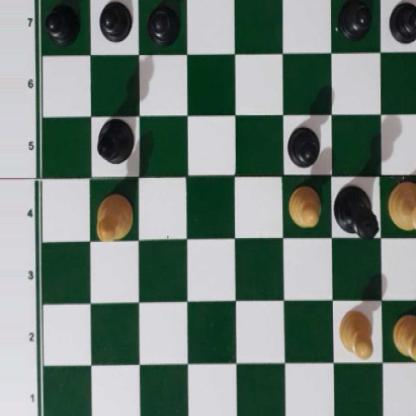black-bishop: (93, 116, 137, 163)
black-pawn: (287, 123, 320, 166), (336, 0, 371, 40), (45, 0, 78, 42), (147, 0, 178, 44), (98, 0, 130, 42), (388, 0, 416, 44)
black-queen: (334, 179, 380, 242)
white-bishop: (95, 195, 133, 241)
white-king: (387, 182, 416, 237)
white-pawn: (337, 307, 375, 358), (287, 182, 322, 227), (392, 312, 416, 361)
